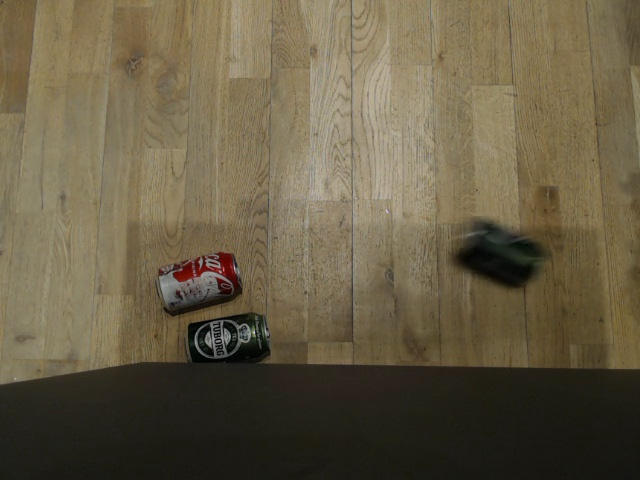beer: (448, 215, 551, 289), (179, 313, 268, 365)
cola: (150, 247, 243, 308)
